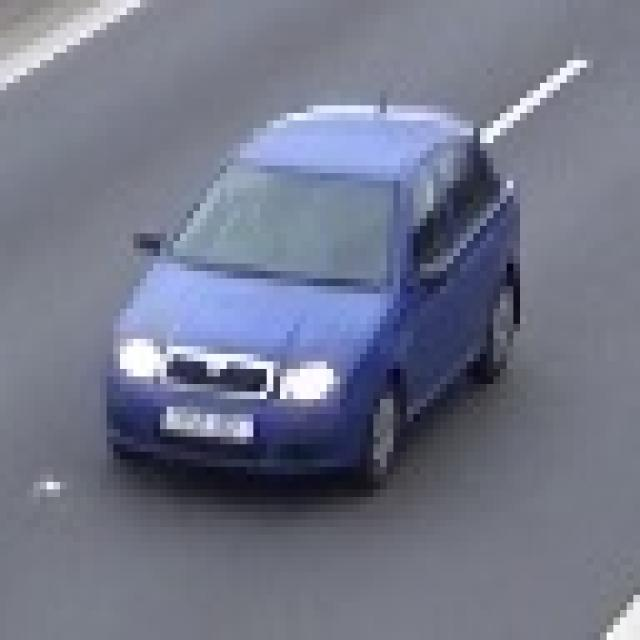blue: (107, 114, 523, 502)
